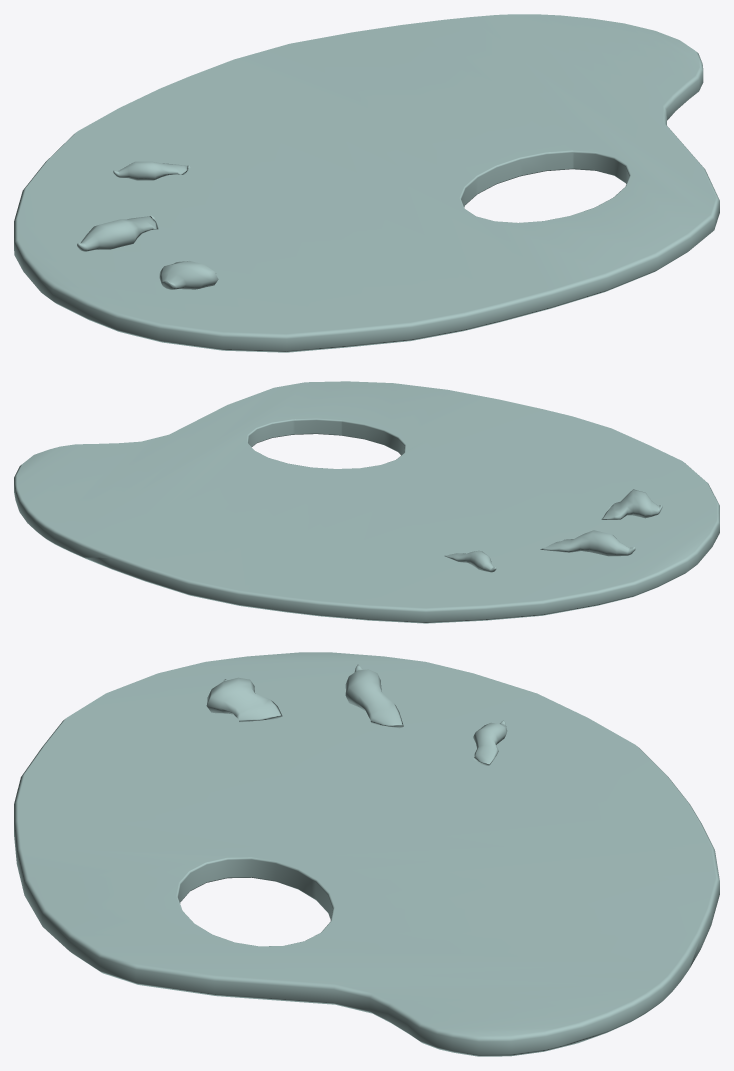
The model's file is paint_Palette.fbx.
The picture shows the model from 3 angles, top to bottom: view 1: azimuth 30°, elevation 25°; view 2: azimuth 150°, elevation 25°; view 3: azimuth 270°, elevation 25°; orthographic projection. The views are drawn at different scales.
Parts seen in each view (by area): view 1: pCube3; view 2: pCube3; view 3: pCube3.
Boxes of the visible parts, x1=… form: pCube3: x1=14, y1=14, x2=719, y2=352; pCube3: x1=14, y1=381, x2=719, y2=623; pCube3: x1=14, y1=652, x2=719, y2=1056.
Bounding box in the file's own units: 0.5691 × 0.0293 × 0.4381.
